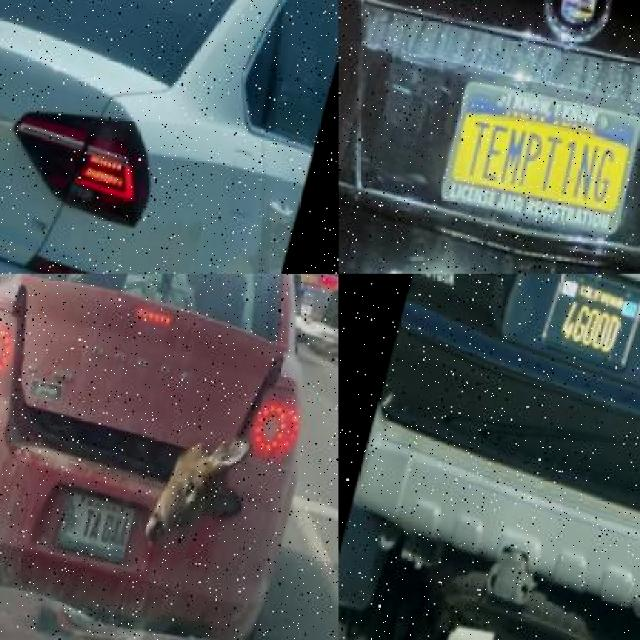licenseplate: (442, 76, 640, 230), (541, 273, 640, 366), (60, 485, 142, 559), (0, 83, 52, 192)
